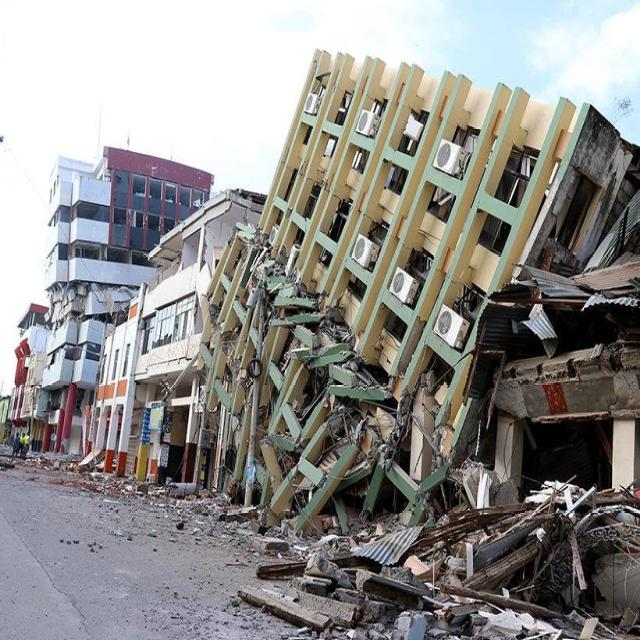Destroyed_building: (193, 26, 640, 640)
